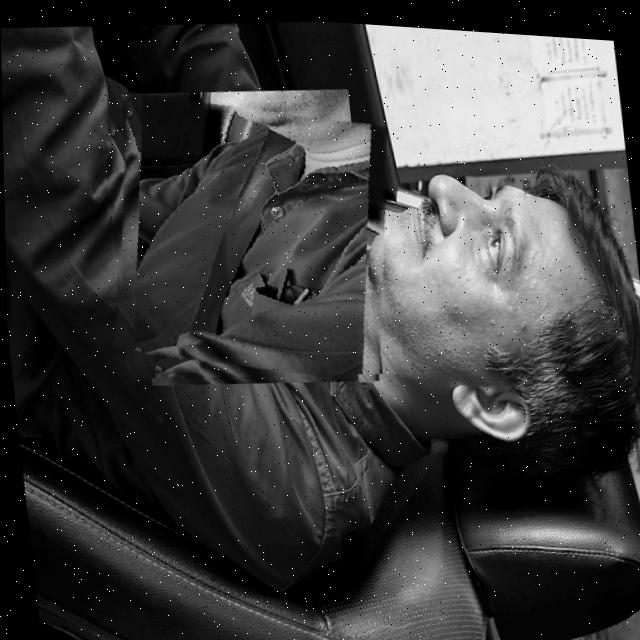seatbelt: (96, 74, 403, 390)
